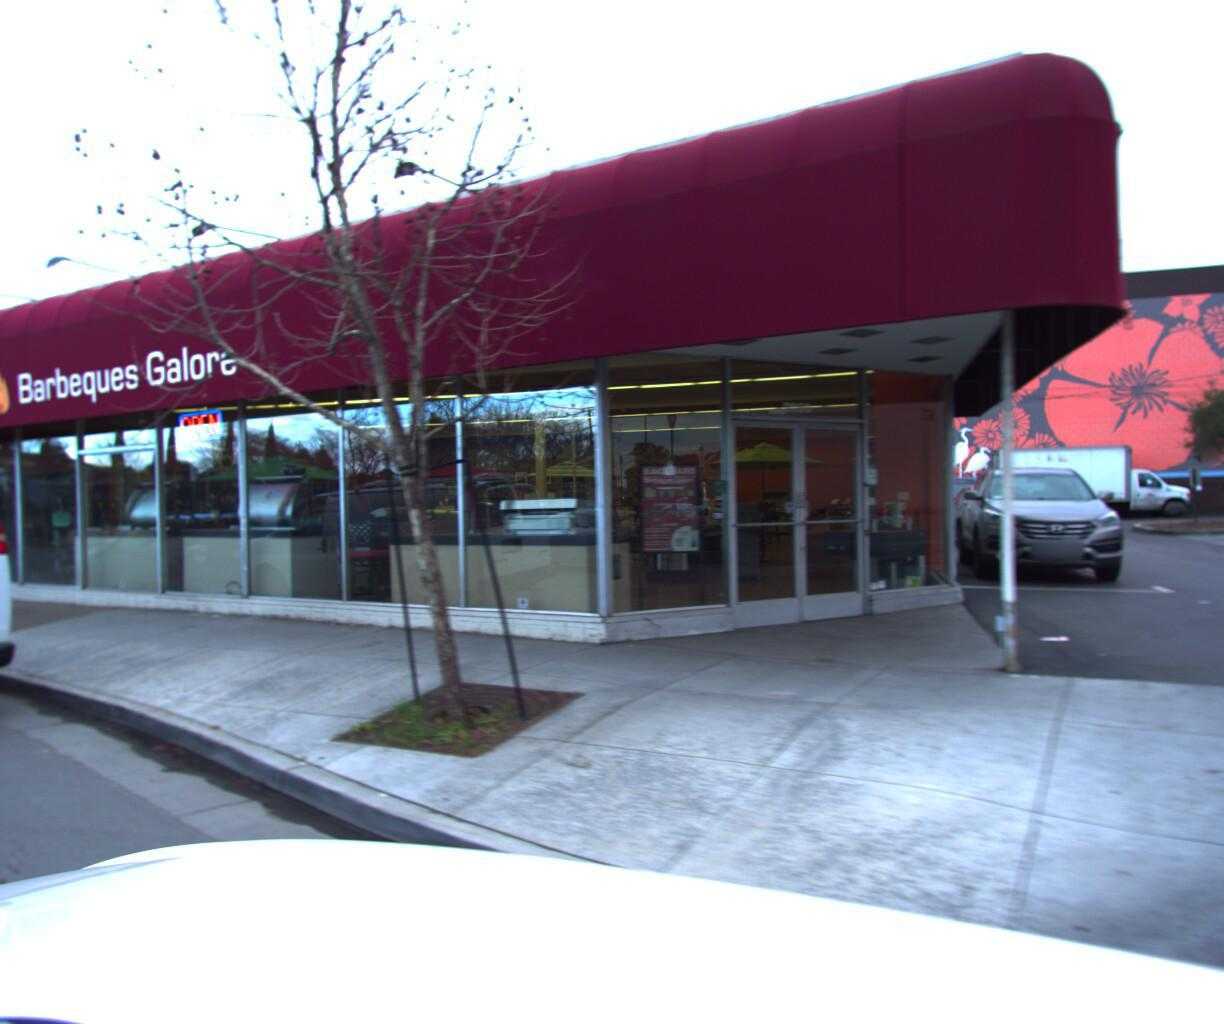car: (0, 431, 35, 787)
